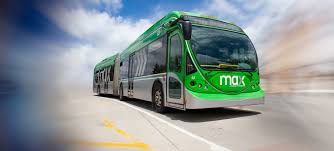bus: (93, 12, 265, 113)
